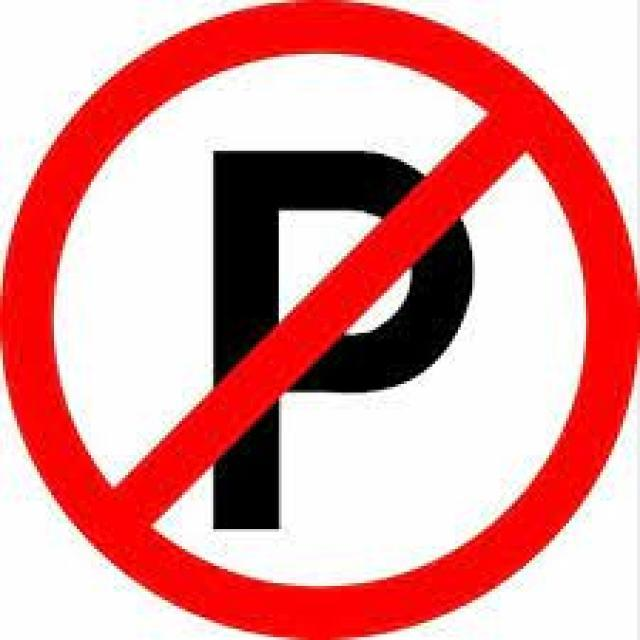no parking: (18, 15, 623, 623)
